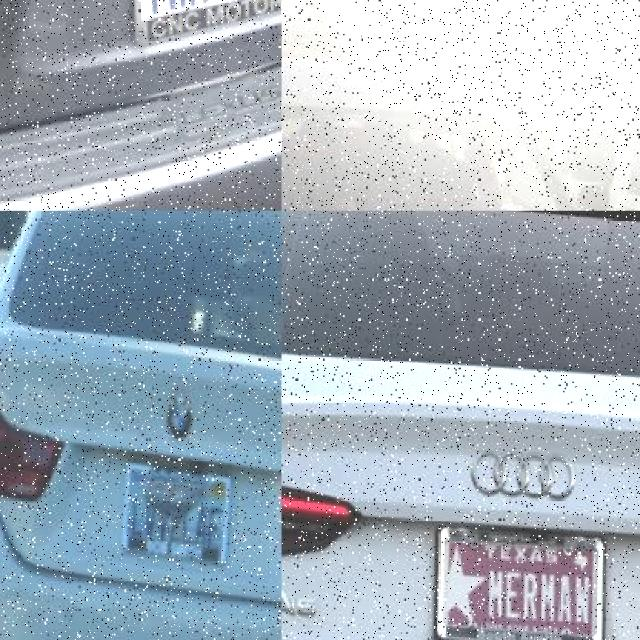licenseplate: (429, 521, 604, 640), (116, 457, 230, 566)
